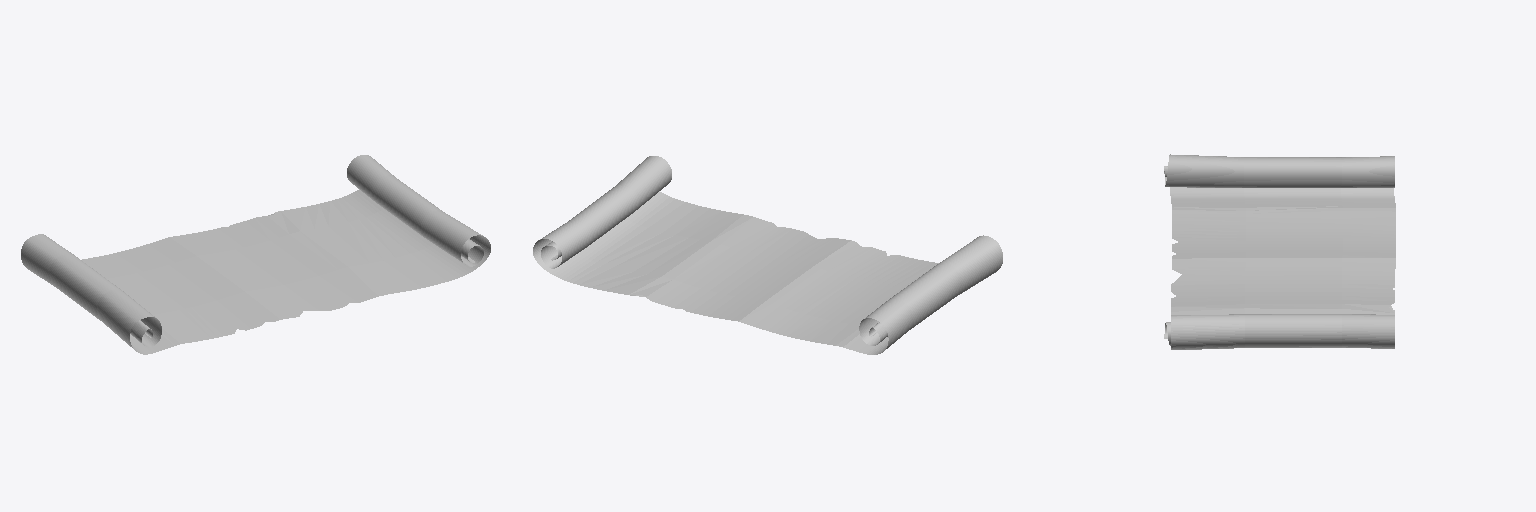
The model's file is inventory.obj.
The picture shows the model from 3 angles: view 1: azimuth 30°, elevation 25°; view 2: azimuth 150°, elevation 25°; view 3: azimuth 270°, elevation 25°; orthographic projection.
Parts seen in each view (by area): view 1: BezierCurve; view 2: BezierCurve; view 3: BezierCurve.
Boxes of the visible parts, x1=… form: BezierCurve: x1=21, y1=155, x2=490, y2=354; BezierCurve: x1=533, y1=156, x2=1002, y2=354; BezierCurve: x1=1164, y1=154, x2=1395, y2=349.
Bounding box in the file's own units: 4.68 × 0.4918 × 2.6.